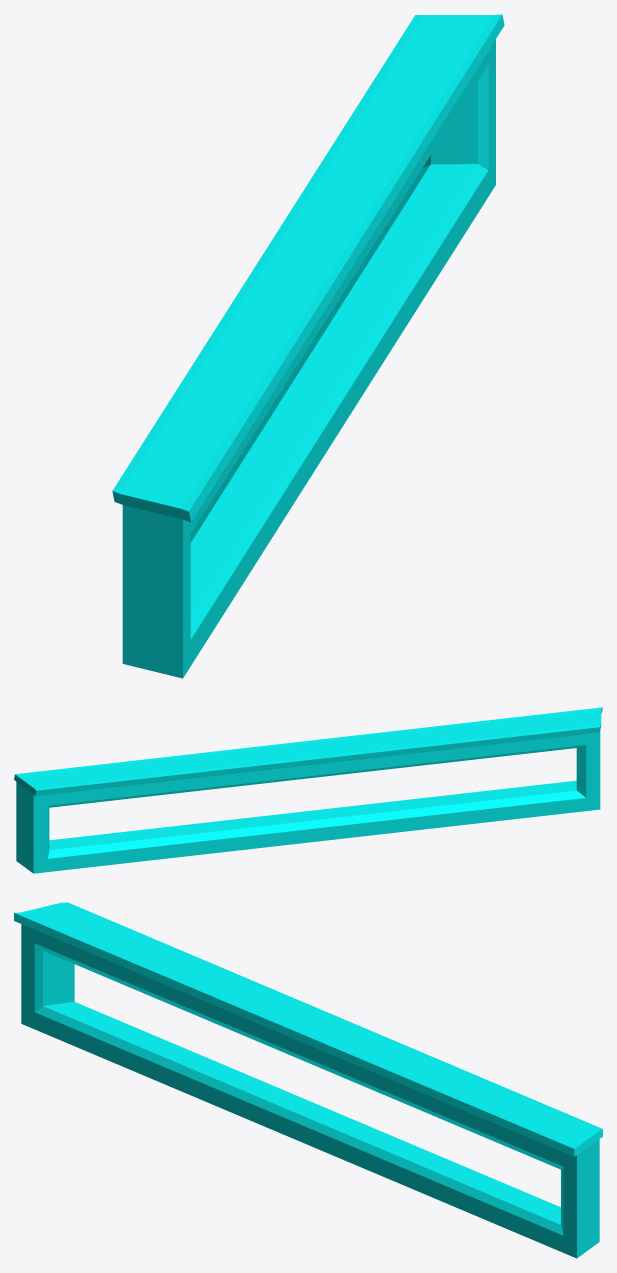
The model's file is InsideFenceStraightPiece.FBX.
The picture shows the model from 3 angles, top to bottom: view 1: azimuth 30°, elevation 25°; view 2: azimuth 150°, elevation 25°; view 3: azimuth 270°, elevation 25°; orthographic projection. The views are drawn at different scales.
Parts seen in each view (by area): view 1: InsideFenceFlatSection; view 2: InsideFenceFlatSection; view 3: InsideFenceFlatSection.
Boxes of the visible parts, x1,y1,x2,y2 form: InsideFenceFlatSection: (112, 14, 504, 678); InsideFenceFlatSection: (14, 707, 602, 873); InsideFenceFlatSection: (14, 902, 602, 1258).
Size of the model in its own units: 773 by 776 by 161.
